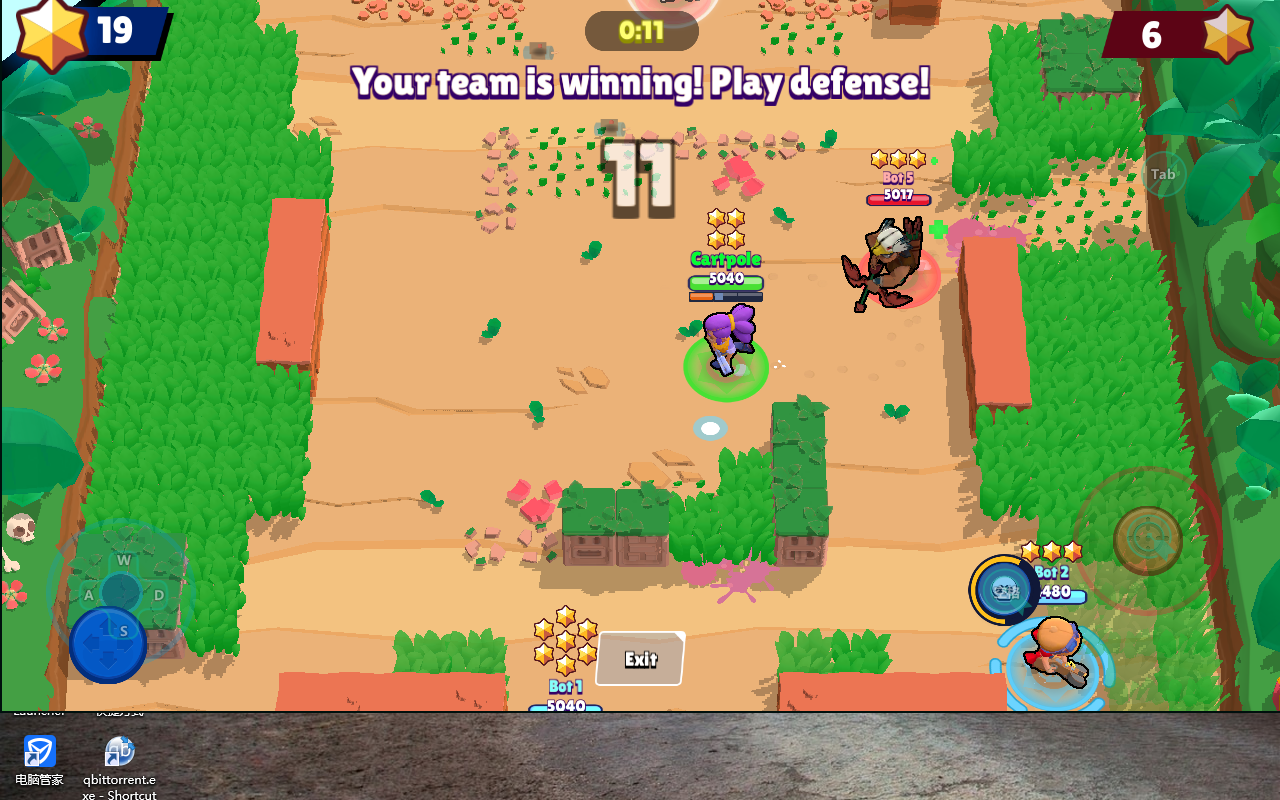current_player: (683, 336, 771, 399)
